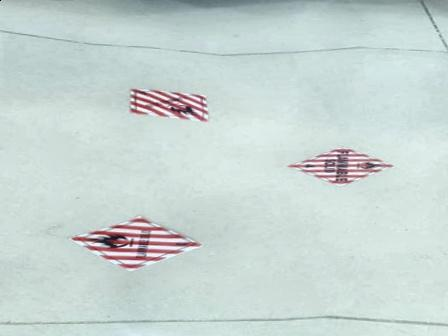flammable-solid: (73, 213, 204, 269), (284, 142, 394, 192), (125, 88, 208, 121)
